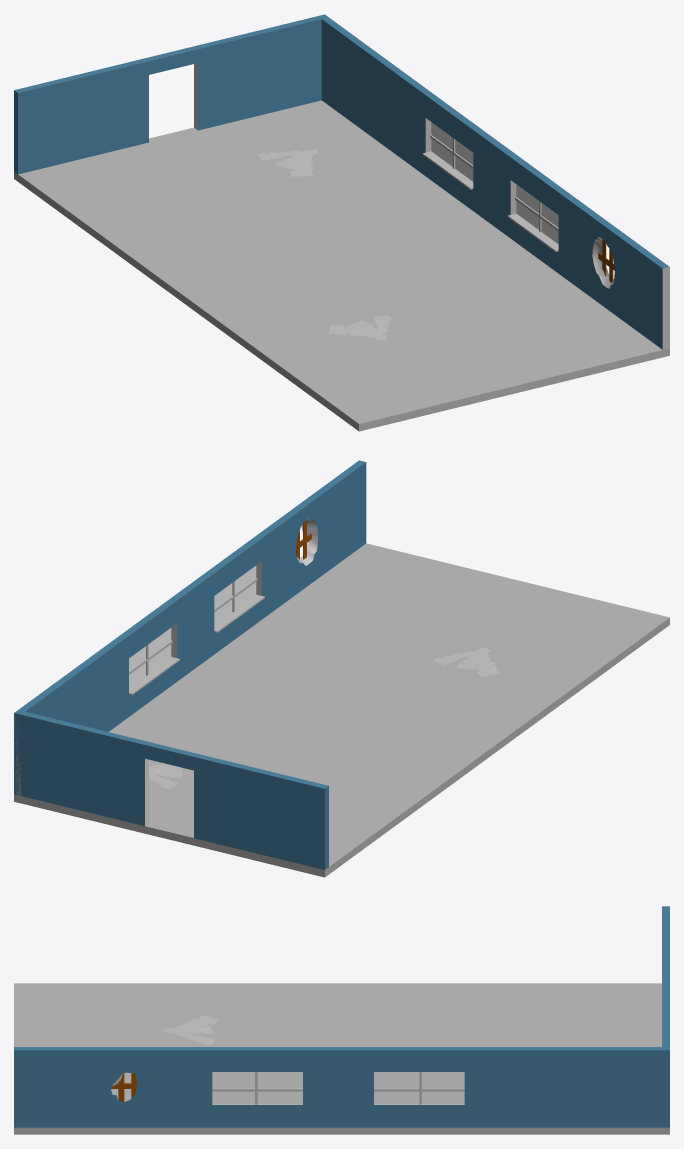
Rendered from hospital_corridor.fbx.
3 renders of one model, top to bottom at view 1: azimuth 30°, elevation 25°; view 2: azimuth 150°, elevation 25°; view 3: azimuth 270°, elevation 25°, orthographic. The views are drawn at different scales.
Visible parts, largest first — view 1: Corridor_Floor, Window_wall_corridor_1, Corridor_wall, Papers_1, Papers; view 2: Corridor_Floor, Window_wall_corridor_1, Corridor_wall, Papers; view 3: Window_wall_corridor_1, Corridor_Floor, Corridor_wall, Papers.
Boxes of the visible parts, x1,y1,x2,y2 form: Corridor_Floor: (14,100,669,431); Window_wall_corridor_1: (321,15,669,349); Corridor_wall: (14,14,328,174); Papers_1: (257,149,317,176); Papers: (328,315,391,339); Corridor_Floor: (14,543,669,877); Window_wall_corridor_1: (14,460,366,795); Corridor_wall: (14,710,328,869); Papers: (433,647,500,676); Window_wall_corridor_1: (14,1047,669,1127); Corridor_Floor: (14,983,669,1134); Corridor_wall: (662,906,669,1127); Papers: (162,1015,219,1044).
Bounding box in the file's own units: 1300 × 354 × 2500.
